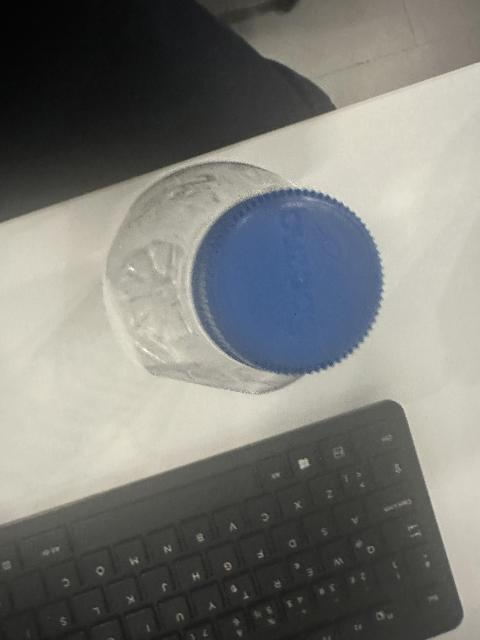Plastik: (103, 163, 387, 390)
